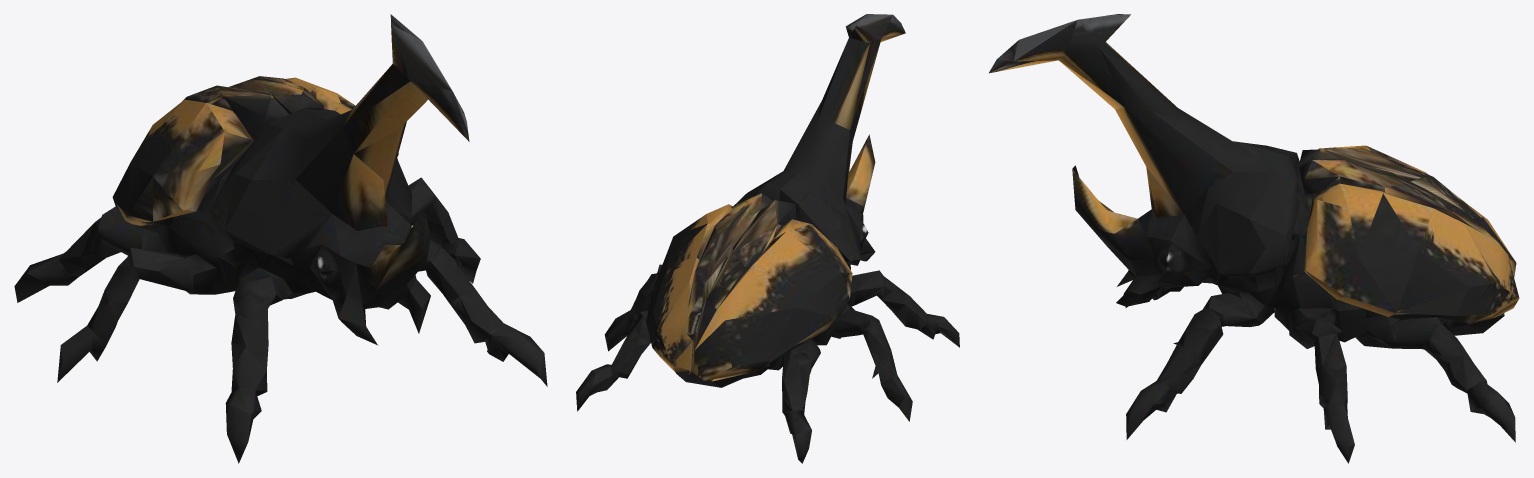
File: bug_dung.glb
3 renders of one model, left to right at view 1: azimuth 30°, elevation 25°; view 2: azimuth 150°, elevation 25°; view 3: azimuth 270°, elevation 25°, orthographic. The views are drawn at different scales.
Visible parts, largest first — view 1: bug; view 2: bug; view 3: bug.
Boxes of the visible parts, x1,y1,x2,y2 form: bug: [14, 14, 547, 463]; bug: [576, 14, 959, 463]; bug: [989, 14, 1519, 463].
Bounding box in the file's own units: 1.53 × 1.43 × 1.89.
1 material, 1 textured.
